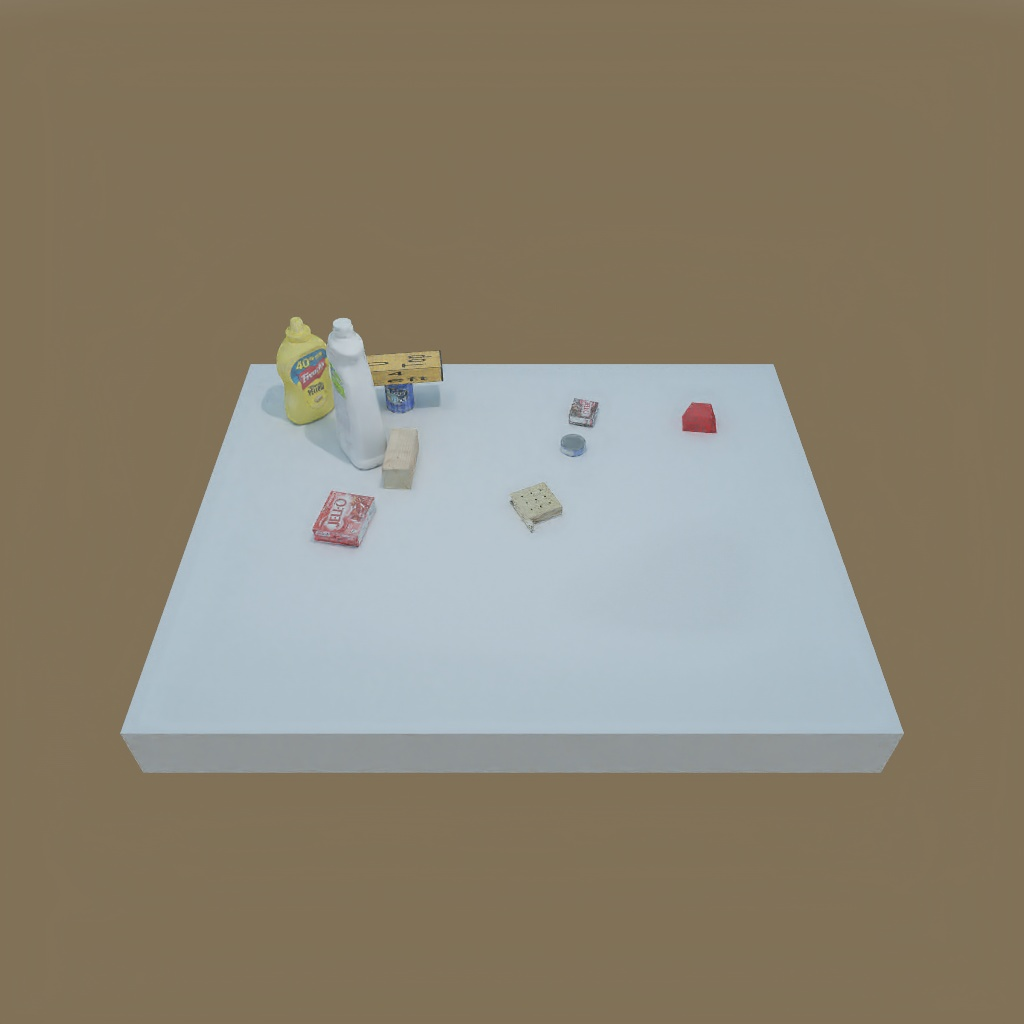gelatin_box: (311, 490, 377, 552)
jenga: (364, 348, 445, 386)
master_chef_can: (383, 372, 423, 416)
mustard_bottle: (276, 316, 340, 423)
nine_hole_peg_test: (510, 482, 564, 530)
pudding_box: (568, 393, 602, 428)
wood_block: (379, 416, 422, 495)
